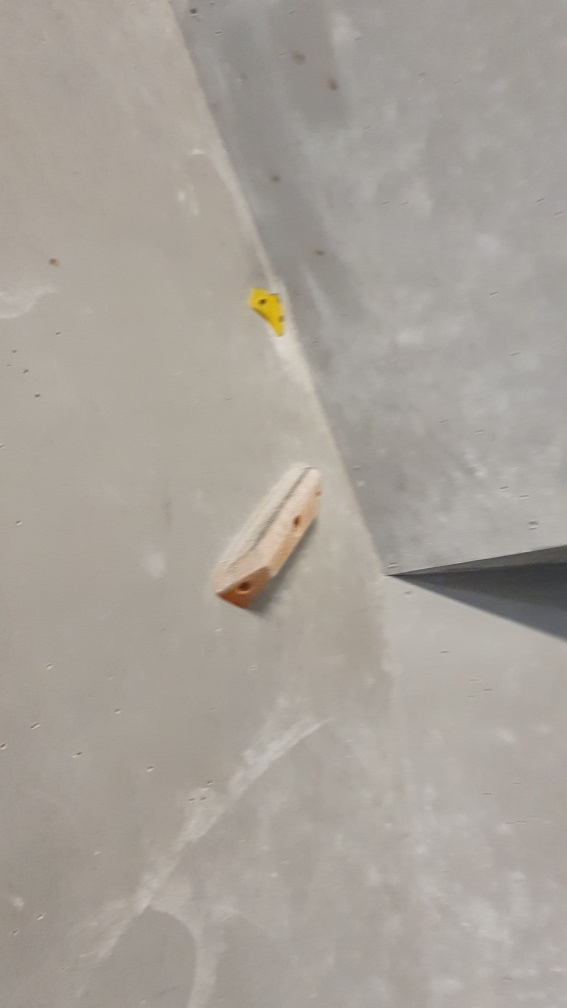Pinch: (214, 463, 327, 612)
